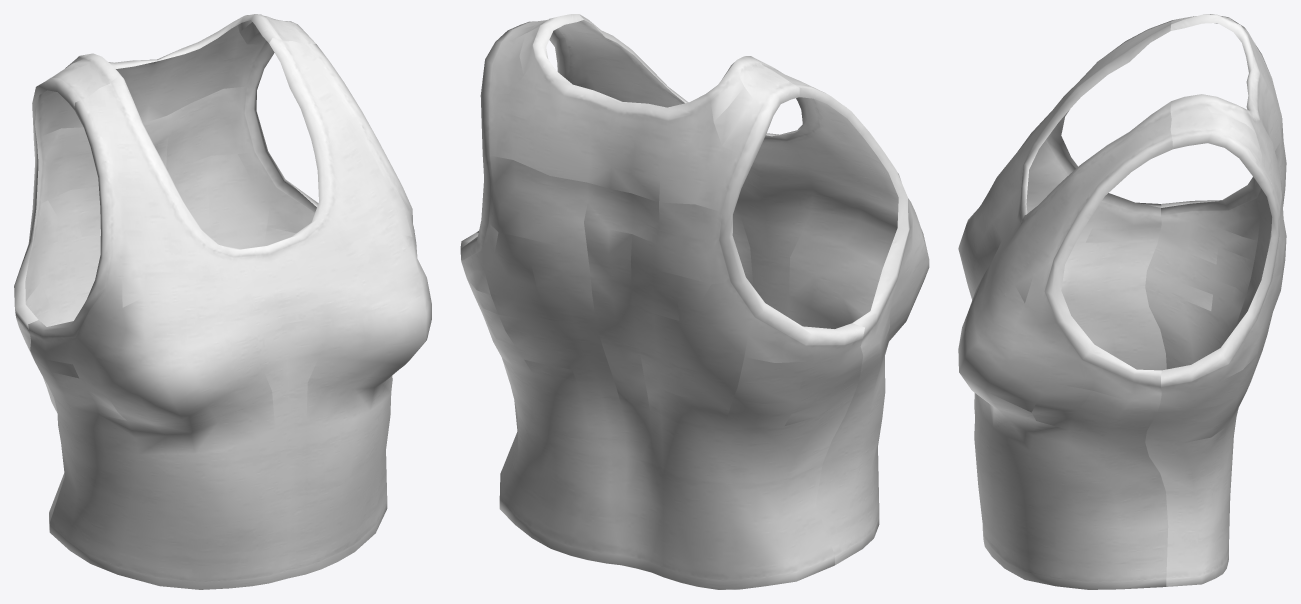
Rendered from punkduck-sleeveless-crop-top.glb.
3 views of the same model, side by side, from view 1: azimuth 30°, elevation 25°; view 2: azimuth 150°, elevation 25°; view 3: azimuth 270°, elevation 25° (orthographic). The views are drawn at different scales.
Visible parts, largest first — view 1: sleeveless crop top; view 2: sleeveless crop top; view 3: sleeveless crop top.
Boxes of the visible parts, <box> form: sleeveless crop top: <box>14,14,431,589</box>; sleeveless crop top: <box>460,14,929,589</box>; sleeveless crop top: <box>958,14,1286,589</box>.
Bounding box in the file's own units: 29.26 × 37.62 × 23.39.
1 material, 1 textured.
